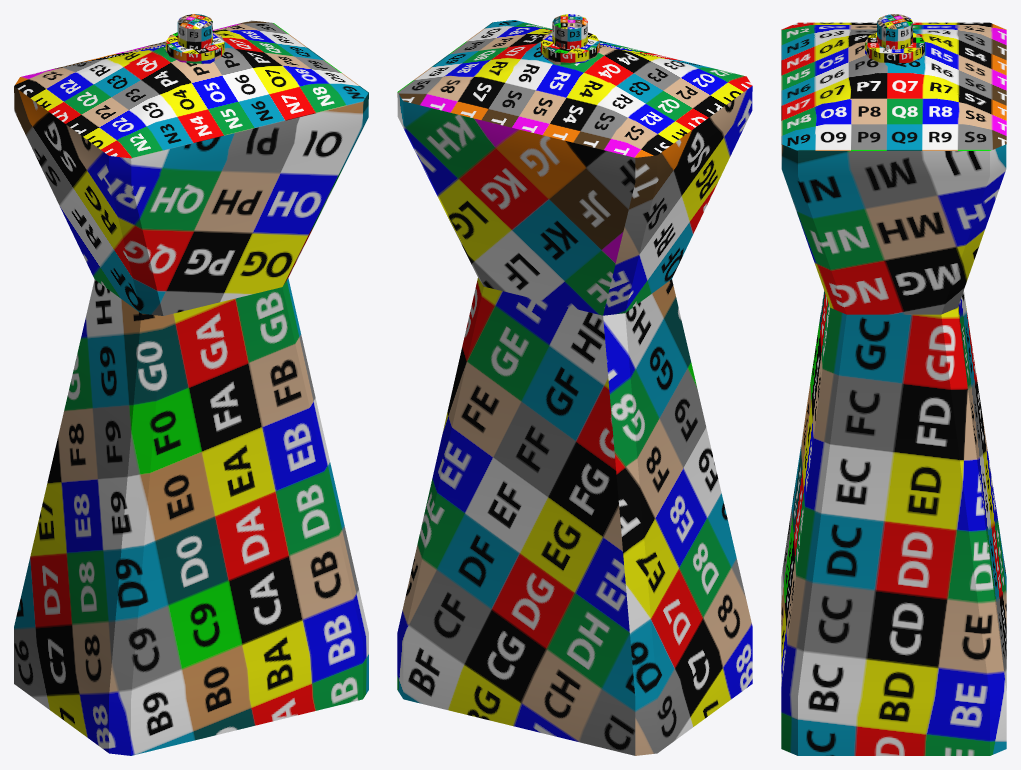
File: cleaningsupply2.FBX
3 renders of one model, left to right at view 1: azimuth 30°, elevation 25°; view 2: azimuth 150°, elevation 25°; view 3: azimuth 270°, elevation 25°, orthographic.
Visible parts, largest first — view 1: cleaningsupply2; view 2: cleaningsupply2; view 3: cleaningsupply2.
Part boxes in pixels (x1,y1,x2,y2): cleaningsupply2: [14, 14, 368, 755]; cleaningsupply2: [397, 14, 752, 755]; cleaningsupply2: [781, 14, 1006, 755].
Size of the model in its own units: 0.1928 by 0.4727 by 0.1429.
Materials: 1 (1 with a texture image).
